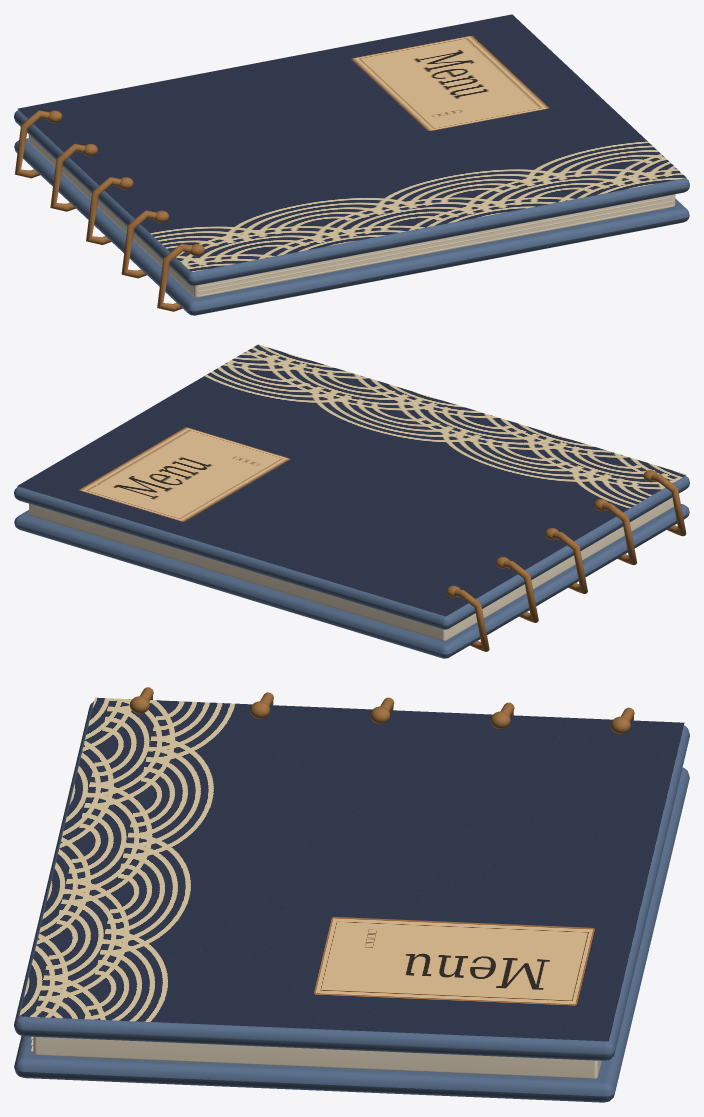
The model's file is menu.glb.
3 views of the same model, one above another, from view 1: azimuth 30°, elevation 25°; view 2: azimuth 150°, elevation 25°; view 3: azimuth 270°, elevation 25° (orthographic). The views are drawn at different scales.
Visible parts, largest first — view 1: Menu painted cover, Menu lower fabric cover, Menu upper cloth cover, Menu cotton paper block, Visible paper page edge.001, Visible paper page edge, Visible paper page edge.002, Menu hand-stitched cord.001, Menu hand-stitched cord.003, Menu hand-stitched cord.002, Menu hand-stitched cord.004, Menu hand-stitched cord; view 2: Menu painted cover, Menu lower fabric cover, Menu upper cloth cover, Menu cotton paper block, Menu hand-stitched cord, Menu hand-stitched cord.004, Menu hand-stitched cord.002, Menu hand-stitched cord.001, Menu hand-stitched cord.003; view 3: Menu painted cover, Menu lower fabric cover, Menu upper cloth cover, Menu cotton paper block.
Part boxes in pixels (bbox=[...]): Menu painted cover: bbox=[17, 14, 686, 271]; Menu lower fabric cover: bbox=[14, 138, 689, 315]; Menu upper cloth cover: bbox=[14, 110, 689, 285]; Menu cotton paper block: bbox=[28, 134, 675, 297]; Visible paper page edge.001: bbox=[197, 201, 673, 292]; Visible paper page edge: bbox=[197, 205, 673, 296]; Visible paper page edge.002: bbox=[197, 196, 673, 288]; Menu hand-stitched cord.001: bbox=[121, 210, 156, 278]; Menu hand-stitched cord.003: bbox=[50, 143, 85, 211]; Menu hand-stitched cord.002: bbox=[86, 177, 120, 244]; Menu hand-stitched cord.004: bbox=[14, 110, 49, 178]; Menu hand-stitched cord: bbox=[157, 243, 191, 311]; Menu painted cover: bbox=[17, 344, 686, 616]; Menu lower fabric cover: bbox=[14, 504, 689, 658]; Menu upper cloth cover: bbox=[14, 476, 689, 629]; Menu cotton paper block: bbox=[29, 497, 673, 640]; Menu hand-stitched cord: bbox=[651, 473, 686, 536]; Menu hand-stitched cord.004: bbox=[454, 589, 489, 651]; Menu hand-stitched cord.002: bbox=[552, 531, 587, 593]; Menu hand-stitched cord.001: bbox=[601, 502, 636, 564]; Menu hand-stitched cord.003: bbox=[503, 560, 538, 622]; Menu painted cover: bbox=[19, 697, 684, 1041]; Menu lower fabric cover: bbox=[14, 767, 689, 1102]; Menu upper cloth cover: bbox=[14, 701, 689, 1060]; Menu cotton paper block: bbox=[33, 1036, 601, 1078].
Bounding box in the file's own units: 5.11 × 0.5649 × 4.08.
Materials: 5 (1 with a texture image).
